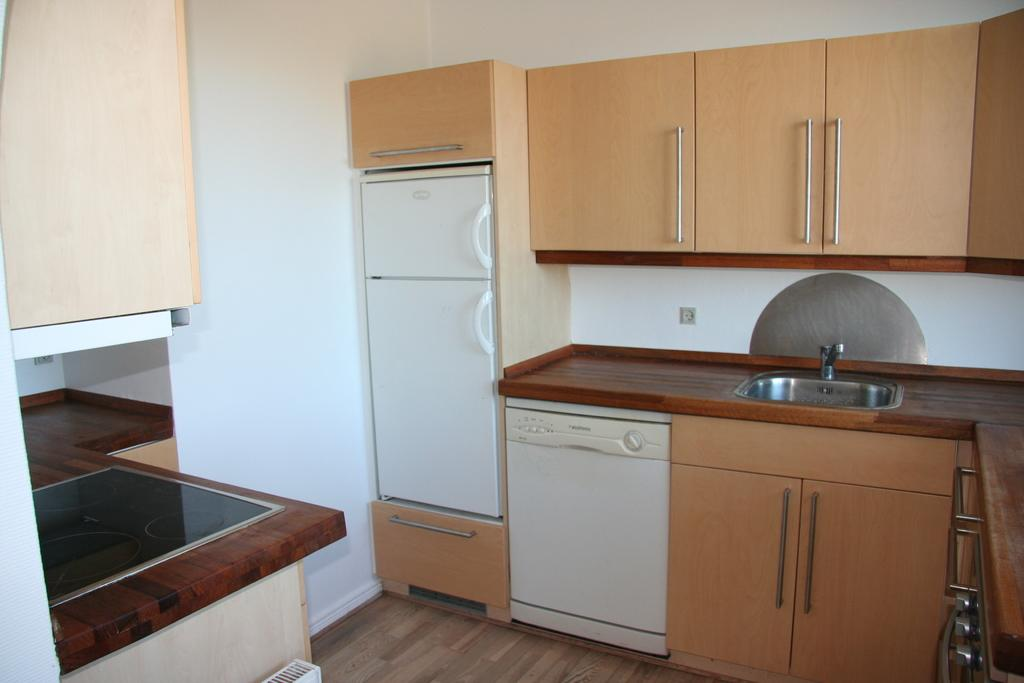cabinet_door: (526, 68, 696, 258), (822, 48, 968, 255), (801, 479, 939, 683), (698, 54, 824, 257), (675, 470, 796, 666), (374, 501, 504, 605), (348, 80, 494, 160)
handle: (944, 526, 990, 598), (386, 513, 478, 542), (946, 462, 984, 528), (772, 485, 790, 609), (668, 124, 686, 241), (468, 286, 498, 356), (367, 140, 467, 160), (806, 490, 822, 610), (825, 116, 840, 241), (470, 200, 498, 264), (804, 121, 814, 239)
